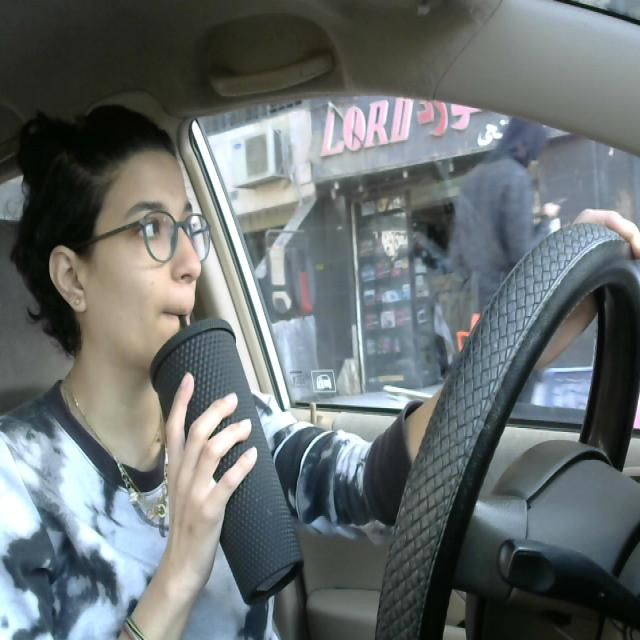drinking: (148, 304, 318, 614)
